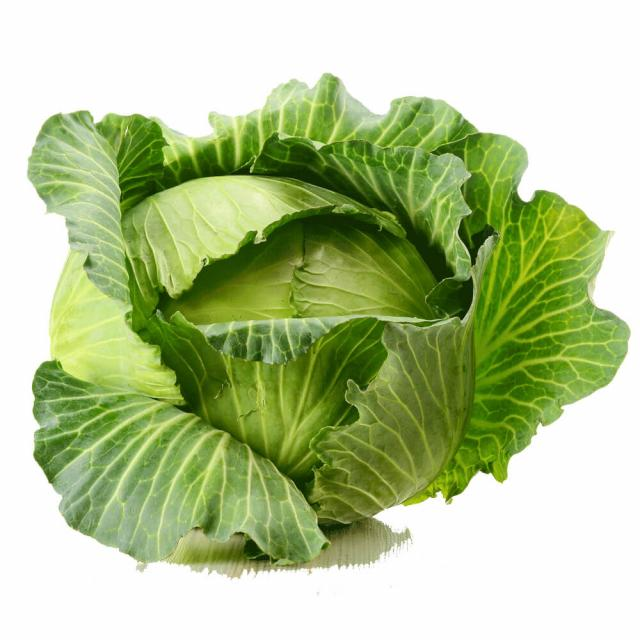cabbage: (4, 74, 620, 608)
